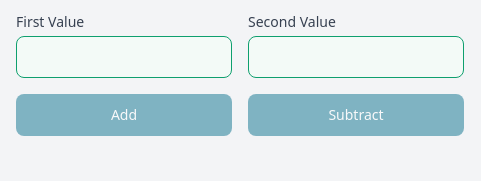
CalculatorFormAndResult › Input fields interactions › displays validation error when Second Value is missing
The image size is (481, 181).
Type "1" into the field labelled "First Value" at [124, 57], box [16,36,232,78]
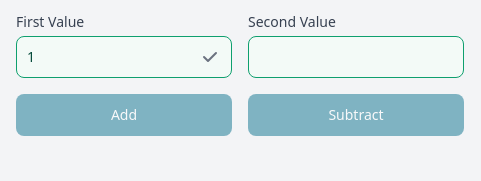
Type "2" into the field labelled "Second Value" at [356, 57], box [248,36,464,78]
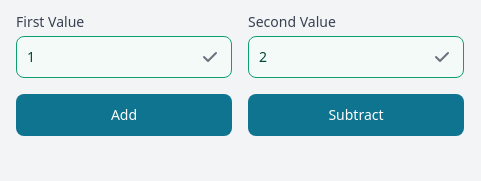
Clear the field labelled "Second Value" at [356, 57], box [248,36,464,78]
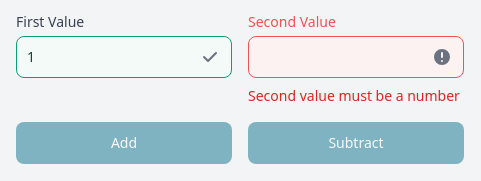
Result: the text "Second value must be a number" is shown at [248,86,464,106]
